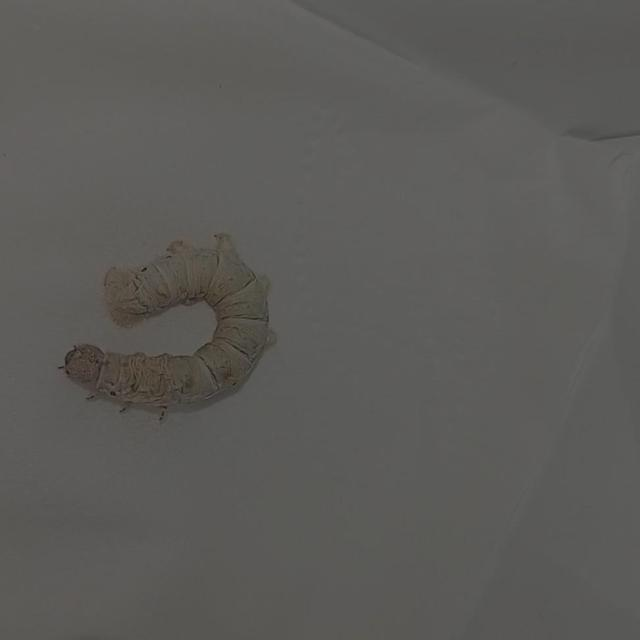Healthy: (33, 220, 298, 436)
